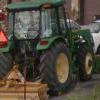Tractor: (7, 1, 88, 88)
